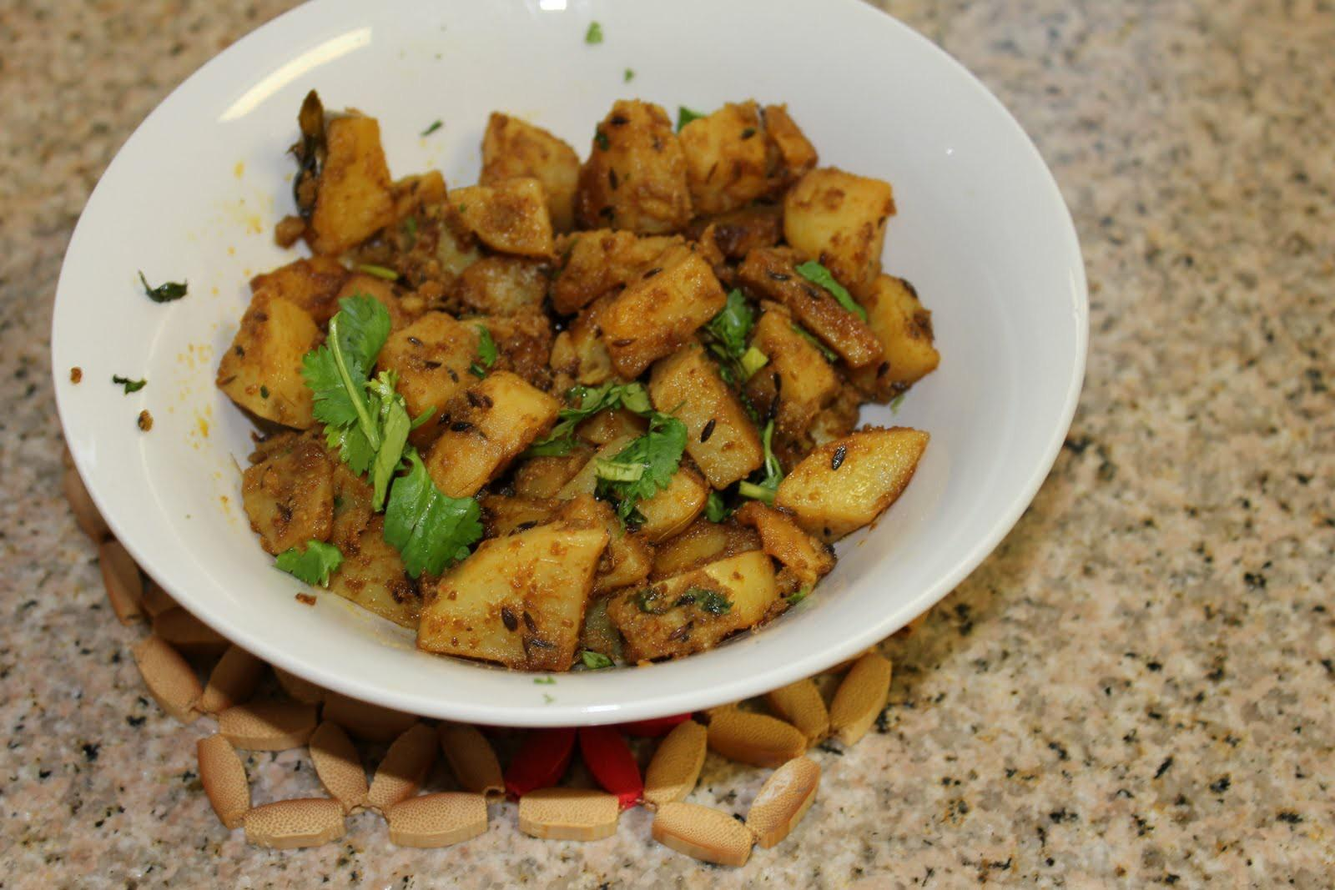AlooMasala: (207, 88, 942, 667)
